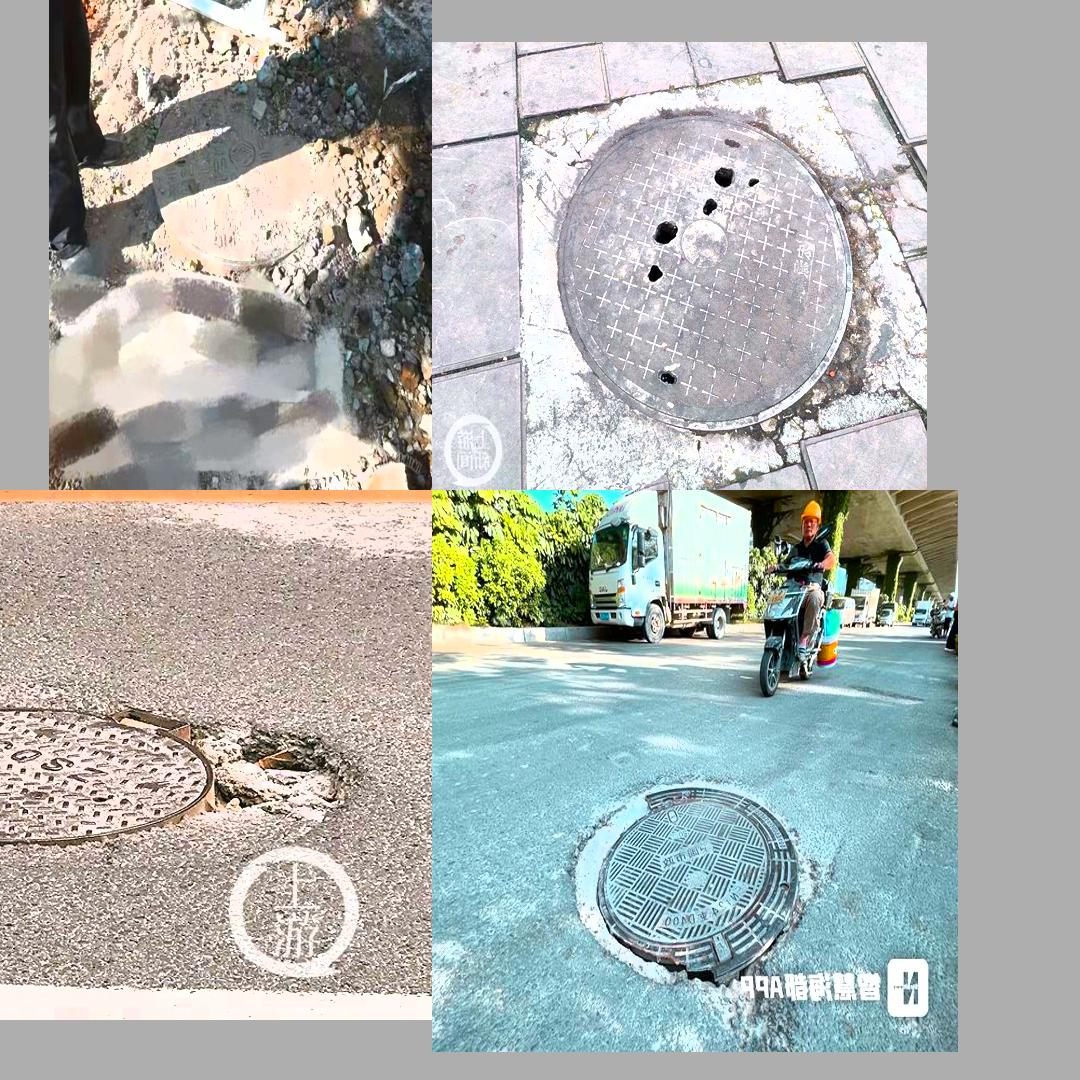circle: (507, 68, 915, 479), (536, 753, 842, 1009), (0, 698, 374, 863), (127, 72, 368, 307)
